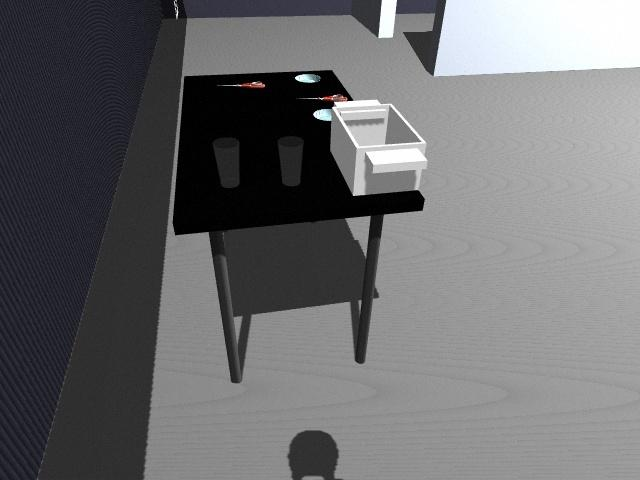cup: (211, 137, 240, 188), (277, 136, 304, 186)
plate: (294, 72, 323, 83), (313, 108, 333, 121)
scissors: (217, 81, 267, 89), (298, 94, 348, 102)
